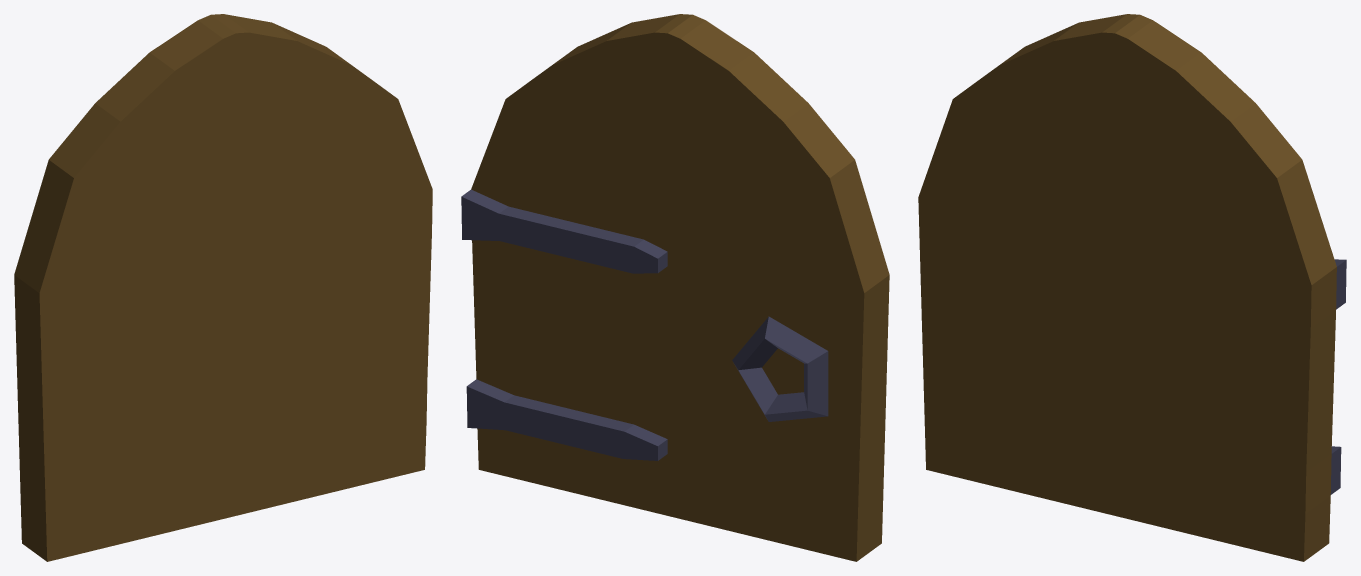
The model's file is door.fbx.
3 views of the same model, side by side, from view 1: azimuth 30°, elevation 25°; view 2: azimuth 150°, elevation 25°; view 3: azimuth 330°, elevation 25° (orthographic).
Parts seen in each view (by area): view 1: door; view 2: door; view 3: door.
Boxes of the visible parts, x1=… form: door: x1=14, y1=14, x2=432, y2=561; door: x1=461, y1=14, x2=889, y2=561; door: x1=918, y1=14, x2=1346, y2=561.
Size of the model in its own units: 23.89 by 28.02 by 3.99.
